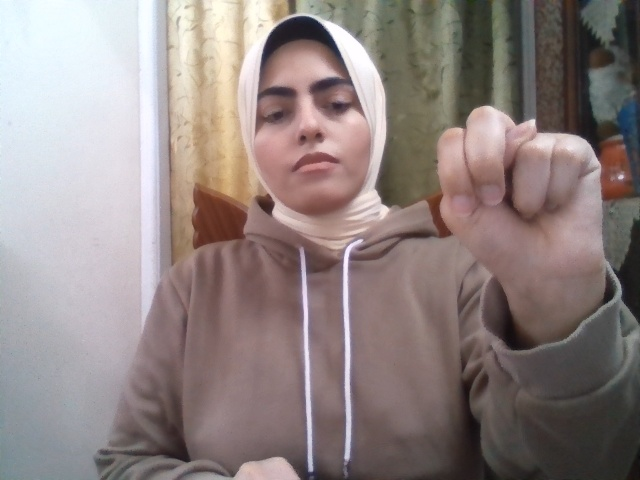N: (437, 106, 605, 280)
